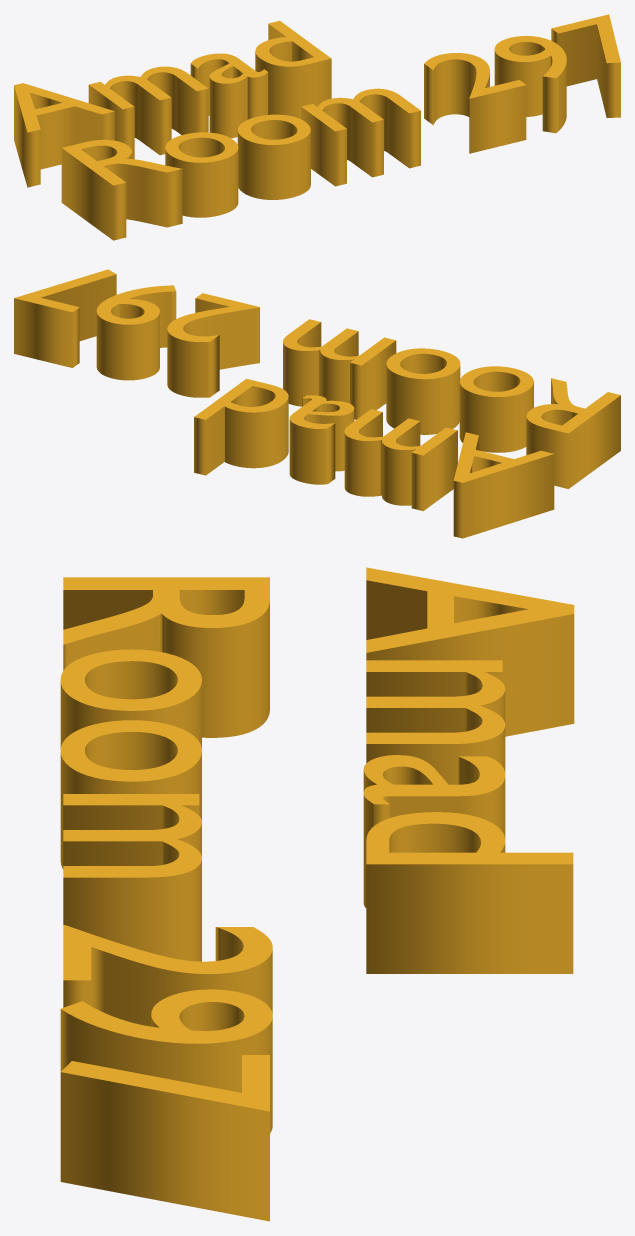
File: amad-297.gltf
3 views of the same model, one above another, from view 1: azimuth 30°, elevation 25°; view 2: azimuth 150°, elevation 25°; view 3: azimuth 270°, elevation 25° (orthographic). The views are drawn at different scales.
Parts seen in each view (by area): view 1: Text; view 2: Text; view 3: Text.
Part boxes in pixels (x1,y1,x2,y2): Text: (14, 14, 620, 240); Text: (14, 269, 620, 538); Text: (60, 567, 574, 1221).
Bounding box in the file's own units: 4.25 × 0.4 × 1.69.
